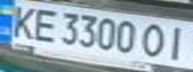0: (115, 18, 142, 55), (93, 16, 118, 52)
3: (54, 10, 81, 47), (75, 12, 100, 50)
E: (27, 6, 63, 43)
I: (163, 24, 193, 62)
K: (3, 2, 42, 39)
O: (136, 20, 172, 60)
